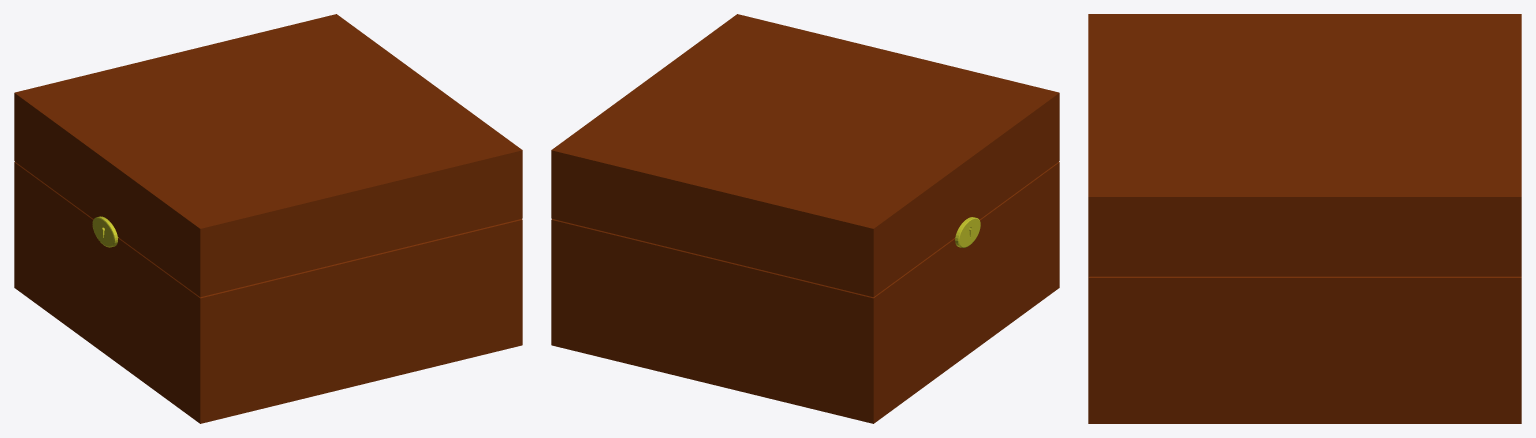
File: chess box.fbx
3 renders of one model, left to right at view 1: azimuth 30°, elevation 25°; view 2: azimuth 150°, elevation 25°; view 3: azimuth 270°, elevation 25°, orthographic. The views are drawn at different scales.
Visible parts, largest first — view 1: chess box; view 2: chess box; view 3: chess box.
Part boxes in pixels (bbox=[...]): chess box: bbox=[14, 14, 522, 423]; chess box: bbox=[551, 14, 1059, 423]; chess box: bbox=[1088, 14, 1521, 423].
Bounding box in the file's own units: 80.22 × 45.86 × 79.33.
